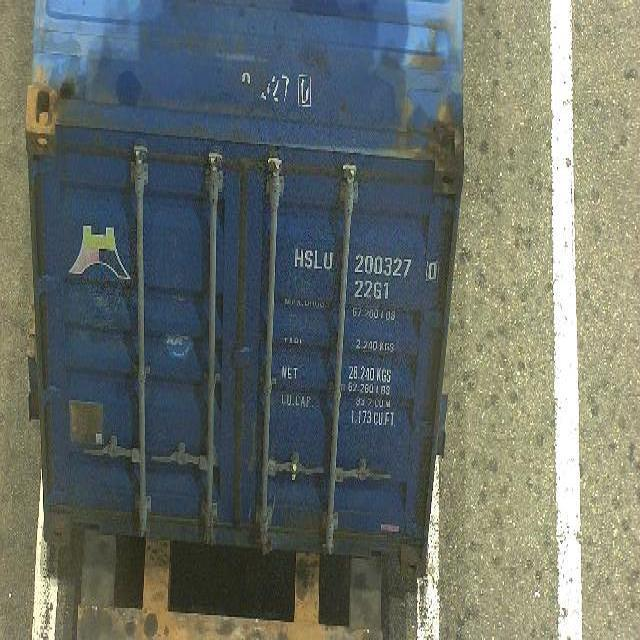ISO: (353, 280, 392, 300)
container_number: (293, 242, 439, 280)
